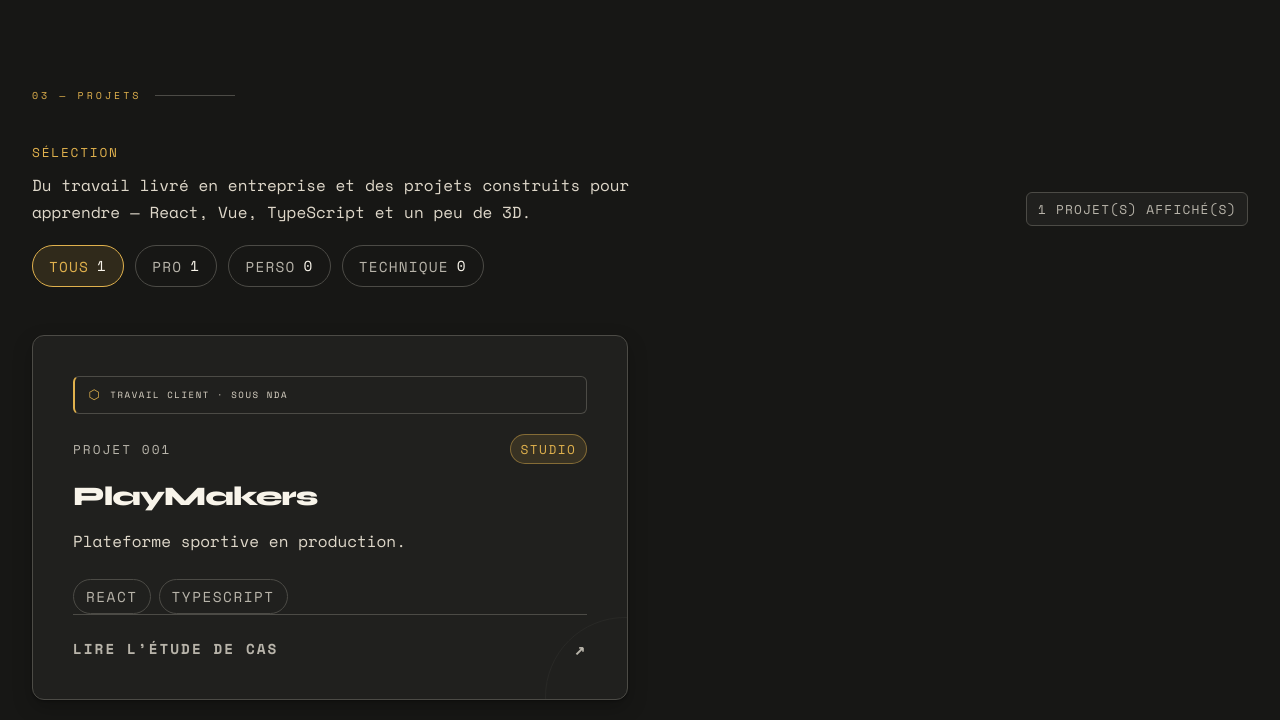
Scenario: Projects › shows a placeholder when no case study exists
What coordinates should you click on to do the following:
click the button "PlayMakers"
I would click on:
 (330, 518)
Its box is left=32, top=335, right=628, bottom=700.
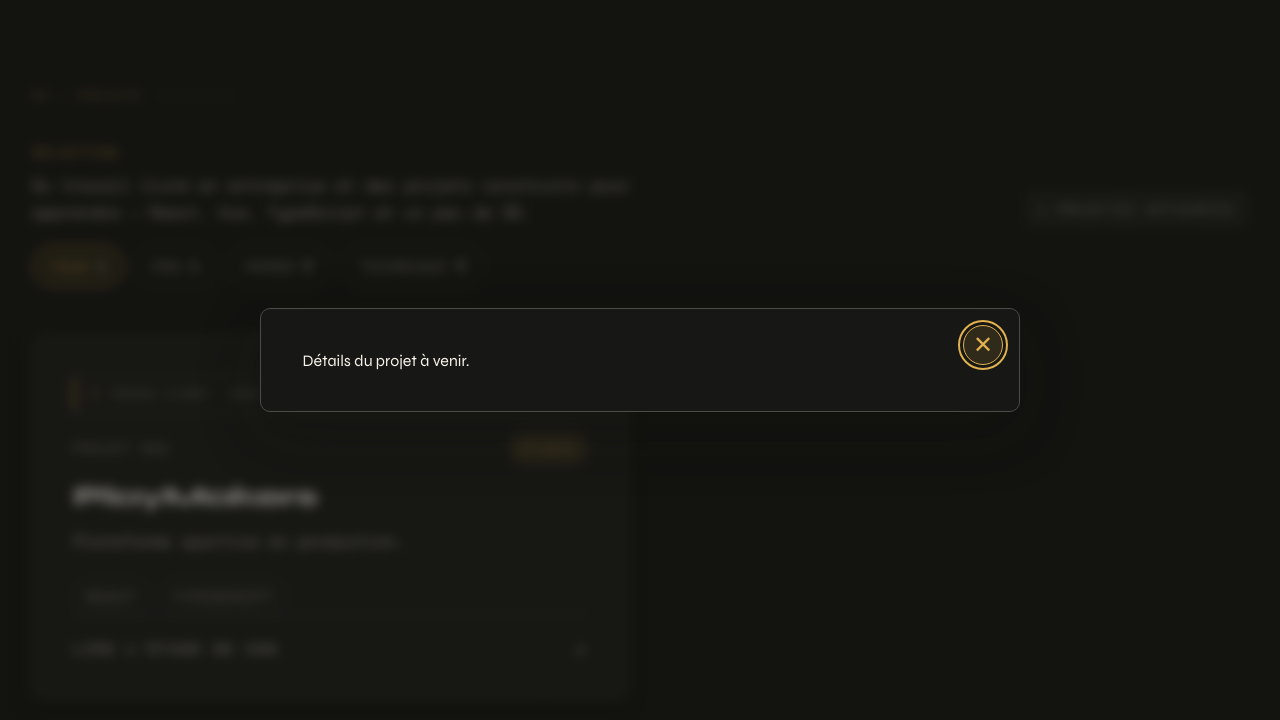
Now the text "Détails du projet à venir." is shown, box left=303, top=350, right=470, bottom=370
